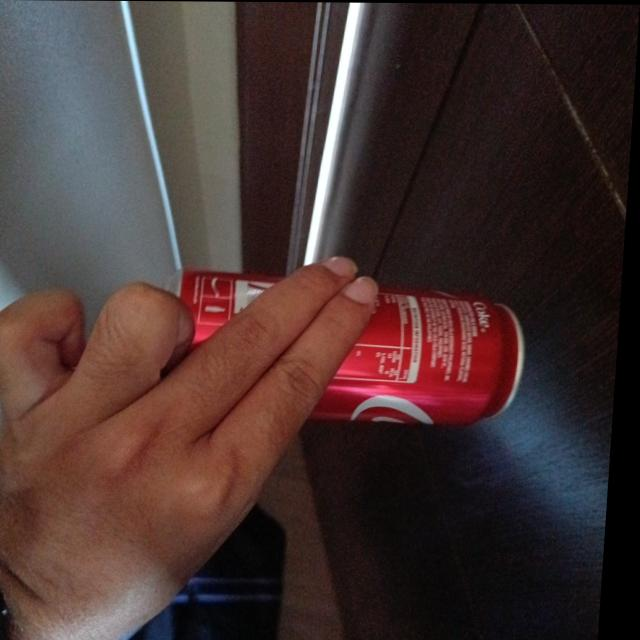coke: (171, 267, 530, 425)
